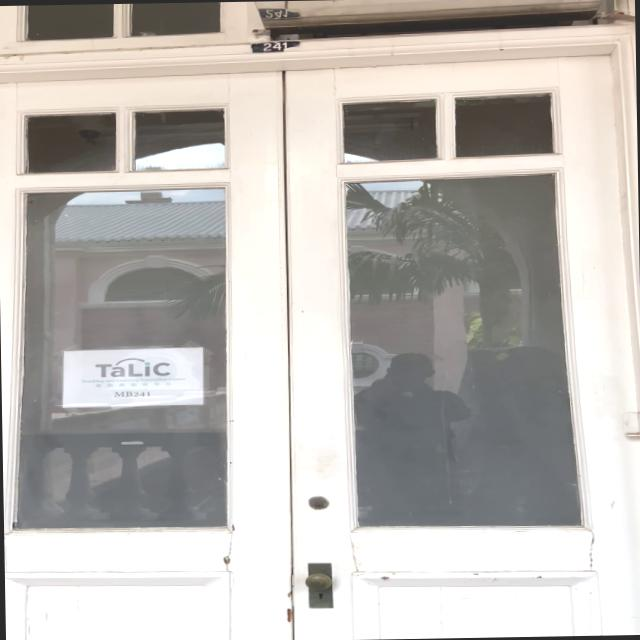room241: (246, 38, 303, 55)
